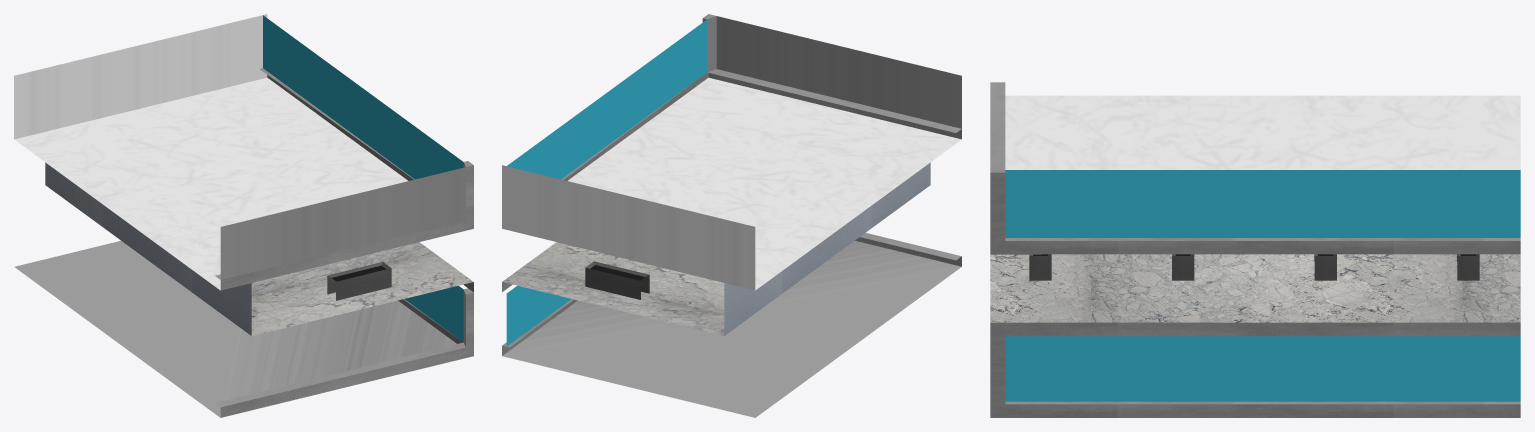
Rendered from platform7.fbx.
3 renders of one model, left to right at view 1: azimuth 30°, elevation 25°; view 2: azimuth 150°, elevation 25°; view 3: azimuth 270°, elevation 25°, orthographic. The views are drawn at different scales.
Visible parts, largest first — view 1: Platform.007; view 2: Platform.007; view 3: Platform.007.
Boxes of the visible parts, x1,y1,x2,y2 form: Platform.007: [14, 14, 473, 417]; Platform.007: [502, 14, 961, 417]; Platform.007: [990, 82, 1520, 417].
Bounding box in the file's own units: 14703 × 10594 × 20755.
Materials: 7 (6 with a texture image).
